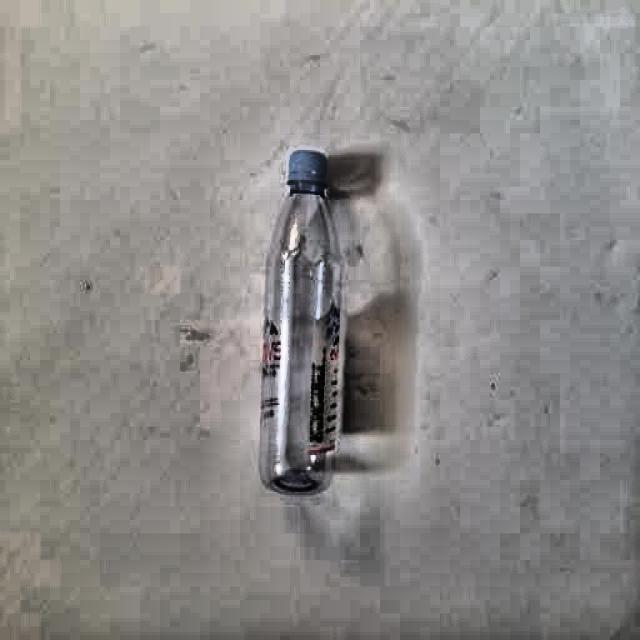plastic: (260, 145, 346, 503)
